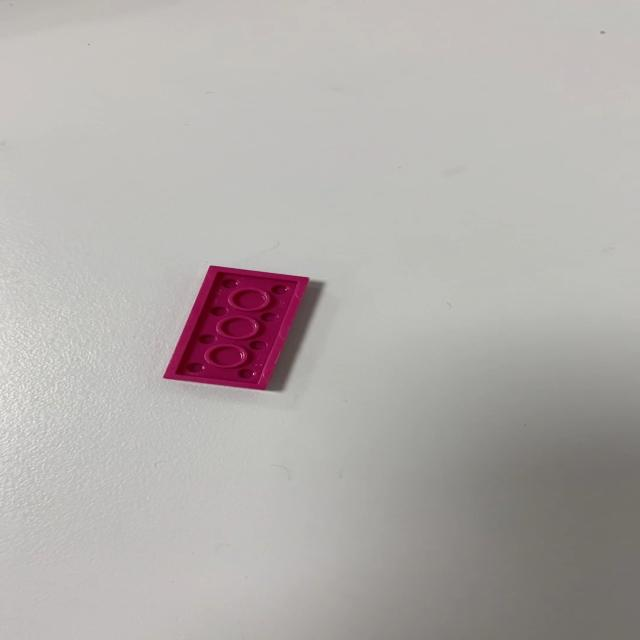C4x2x0: (160, 265, 310, 391)
